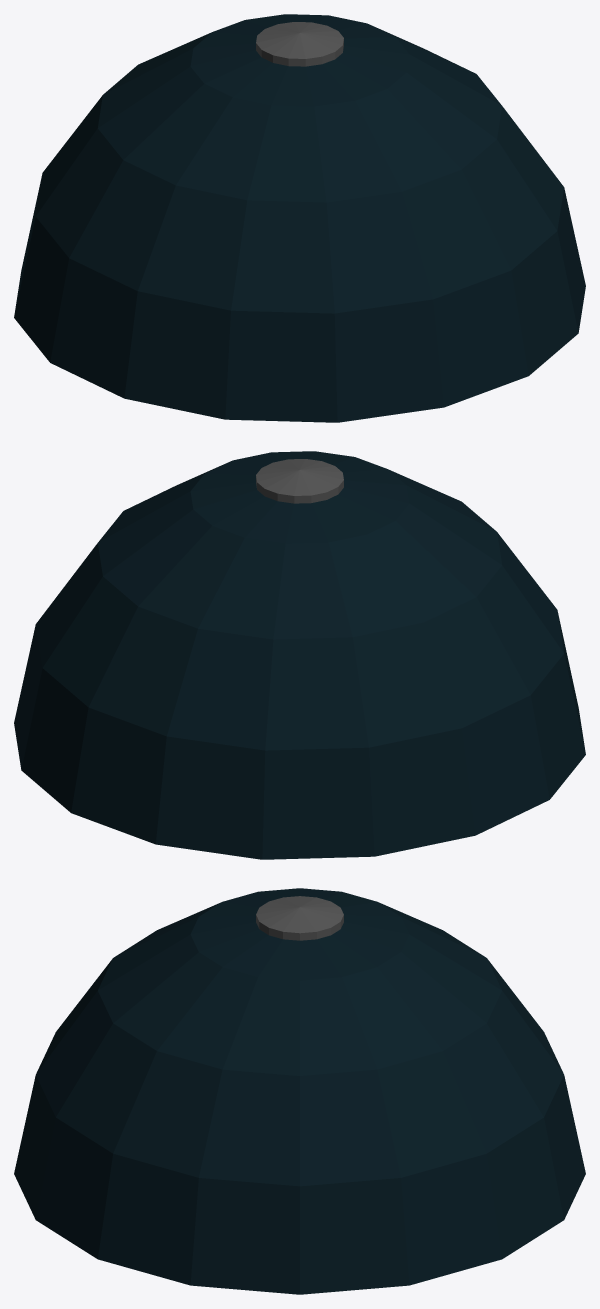
The model's file is Roof_2.fbx.
The picture shows the model from 3 angles, top to bottom: view 1: azimuth 30°, elevation 25°; view 2: azimuth 150°, elevation 25°; view 3: azimuth 270°, elevation 25°; orthographic projection.
Visible parts, largest first — view 1: Roof_2; view 2: Roof_2; view 3: Roof_2.
Part boxes in pixels (<box>): Roof_2: <box>14,14,585,422</box>; Roof_2: <box>14,451,585,859</box>; Roof_2: <box>14,888,585,1294</box>.
Bounding box in the file's own units: 400 × 206 × 400.
